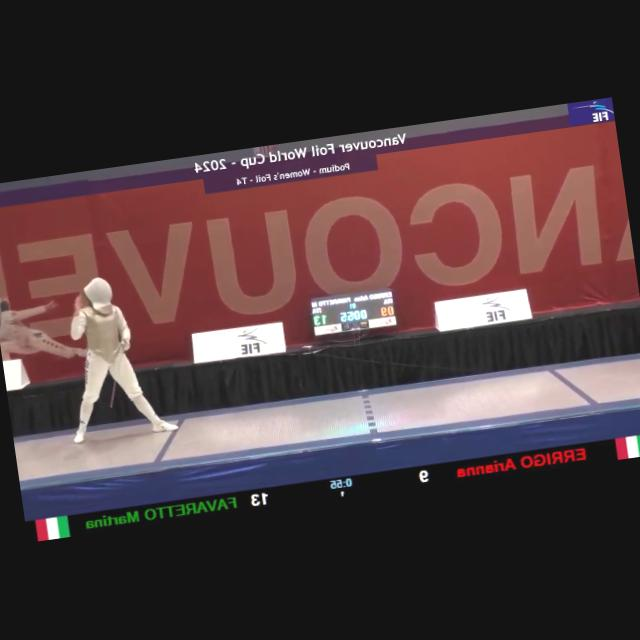blade: (100, 336, 135, 408)
